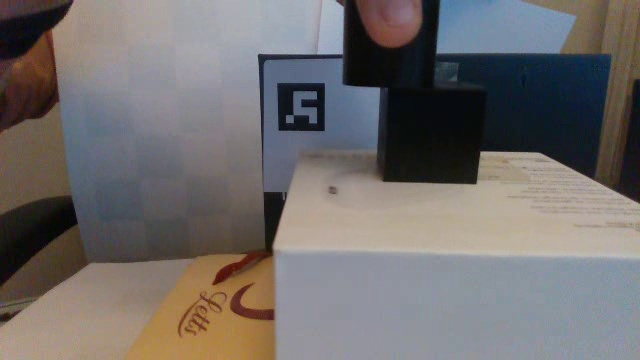cube: (365, 81, 498, 190)
cylindre: (334, 1, 449, 90)
